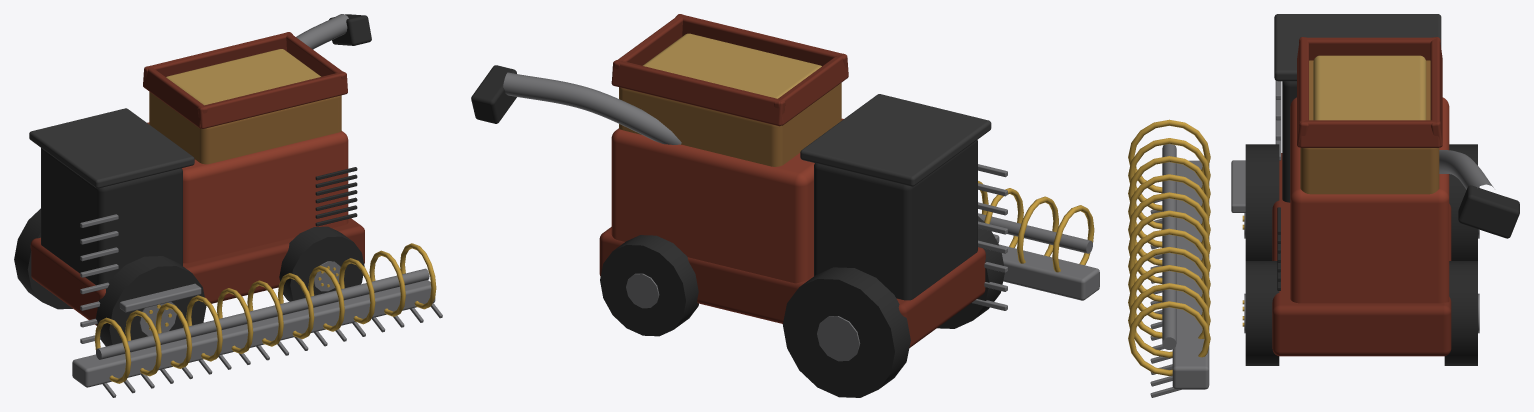
The model's file is combine.glb.
3 renders of one model, left to right at view 1: azimuth 30°, elevation 25°; view 2: azimuth 150°, elevation 25°; view 3: azimuth 270°, elevation 25°, orthographic. The views are drawn at different scales.
Parts seen in each view (by area): view 1: combine-farm-window, combine-farm-metal, combine-farm-barn-red-dark, combine-farm-barn-red, combine-farm-roof-slate, combine-farm-gold, combine-farm-wood-dark, combine-farm-thatch; view 2: combine-farm-window, combine-farm-barn-red, combine-farm-barn-red-dark, combine-farm-metal, combine-farm-roof-slate, combine-farm-wood-dark, combine-farm-thatch, combine-farm-gold; view 3: combine-farm-barn-red-dark, combine-farm-barn-red, combine-farm-window, combine-farm-gold, combine-farm-metal, combine-farm-thatch, combine-farm-wood-dark, combine-farm-roof-slate.
Boxes of the visible parts, box(x1,y1,x2,y2) form: combine-farm-window: box(14, 14, 371, 346); combine-farm-metal: box(72, 14, 442, 397); combine-farm-barn-red-dark: box(30, 32, 364, 325); combine-farm-barn-red: box(147, 122, 348, 263); combine-farm-roof-slate: box(29, 108, 194, 188); combine-farm-gold: box(94, 243, 436, 383); combine-farm-wood-dark: box(149, 92, 341, 164); combine-farm-thatch: box(166, 49, 320, 105); combine-farm-window: box(471, 65, 1004, 397); combine-farm-barn-red: box(611, 118, 843, 283); combine-farm-barn-red-dark: box(599, 14, 985, 347); combine-farm-metal: box(503, 72, 1099, 361); combine-farm-roof-slate: box(800, 94, 991, 186); combine-farm-wood-dark: box(619, 83, 841, 166); combine-farm-thatch: box(643, 33, 821, 98); combine-farm-gold: box(978, 181, 1094, 272); combine-farm-barn-red-dark: box(1272, 37, 1451, 356); combine-farm-barn-red: box(1290, 97, 1449, 303); combine-farm-window: box(1245, 81, 1519, 365); combine-farm-gold: box(1128, 119, 1244, 376); combine-farm-metal: box(1150, 80, 1493, 397); combine-farm-thatch: box(1313, 55, 1426, 120); combine-farm-wood-dark: box(1300, 60, 1439, 194); combine-farm-roof-slate: box(1274, 14, 1441, 81).
Size of the model in its own units: 7.15 by 3.85 by 4.93.
